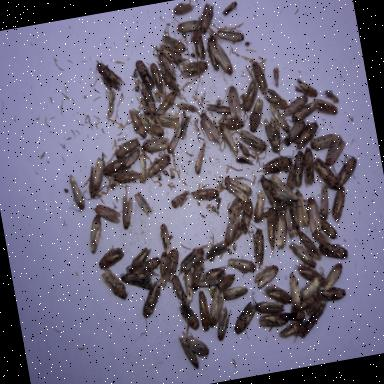pbw: (98, 264, 132, 304), (94, 57, 128, 94), (260, 204, 284, 254), (290, 118, 325, 151), (174, 244, 210, 276), (255, 170, 283, 211), (84, 156, 110, 200), (230, 300, 260, 336), (204, 288, 230, 328), (296, 255, 326, 288), (63, 172, 87, 213), (262, 114, 285, 156), (224, 172, 254, 204), (322, 132, 350, 166), (290, 238, 318, 272), (312, 154, 338, 190), (142, 150, 174, 179), (209, 40, 234, 77), (84, 213, 107, 253), (326, 185, 350, 223), (119, 268, 154, 294), (260, 280, 292, 308), (278, 120, 310, 148), (207, 271, 240, 298), (160, 65, 184, 102), (212, 304, 235, 342), (182, 331, 211, 361), (332, 153, 360, 184), (244, 98, 268, 134), (124, 246, 155, 273), (269, 183, 300, 210), (178, 334, 200, 372), (218, 122, 240, 160), (162, 246, 184, 284), (194, 288, 213, 332), (318, 238, 350, 264), (276, 315, 308, 341), (289, 151, 310, 190), (196, 263, 230, 287), (298, 228, 322, 262), (238, 79, 262, 113), (296, 274, 325, 302), (319, 262, 347, 291), (138, 110, 165, 140), (238, 127, 268, 154), (96, 244, 127, 270), (271, 210, 291, 250), (250, 227, 270, 267), (178, 296, 200, 332), (236, 198, 258, 234), (156, 41, 184, 69), (252, 264, 282, 290), (298, 146, 318, 185), (305, 195, 324, 236), (199, 109, 221, 144), (220, 212, 244, 244), (118, 192, 138, 230), (138, 76, 157, 116), (94, 200, 122, 227), (190, 140, 211, 176), (152, 90, 180, 117), (286, 270, 304, 312), (254, 296, 288, 318), (260, 154, 294, 176), (171, 0, 202, 24), (262, 85, 288, 113), (154, 252, 173, 290), (228, 254, 258, 278), (202, 238, 232, 262), (146, 60, 166, 96), (128, 106, 148, 142), (249, 190, 270, 224), (157, 50, 178, 84), (197, 2, 219, 34), (163, 124, 186, 154), (252, 60, 270, 98), (293, 190, 311, 228), (270, 100, 290, 134), (310, 94, 338, 118), (315, 183, 333, 220), (282, 94, 312, 116), (179, 57, 210, 78), (162, 31, 188, 56), (225, 84, 243, 120), (156, 110, 183, 134), (116, 148, 143, 172), (100, 155, 128, 178), (308, 132, 340, 152), (113, 137, 142, 159), (190, 181, 220, 202), (288, 101, 318, 122), (141, 133, 171, 154), (294, 75, 318, 101), (134, 254, 162, 276), (181, 268, 198, 304), (170, 272, 188, 306), (190, 28, 208, 62), (316, 285, 348, 304), (205, 36, 221, 74), (216, 25, 246, 45), (134, 57, 152, 90), (258, 310, 290, 328), (189, 262, 208, 291), (320, 214, 340, 241), (280, 306, 308, 325), (134, 190, 152, 218), (282, 204, 296, 240), (313, 229, 334, 253), (217, 114, 245, 132), (177, 114, 196, 140), (113, 168, 142, 185), (170, 188, 192, 210), (225, 198, 245, 222), (158, 222, 174, 252), (296, 292, 320, 312), (304, 298, 329, 317), (206, 100, 232, 118), (288, 203, 302, 236), (176, 18, 202, 35), (222, 284, 249, 300), (237, 138, 251, 160)
